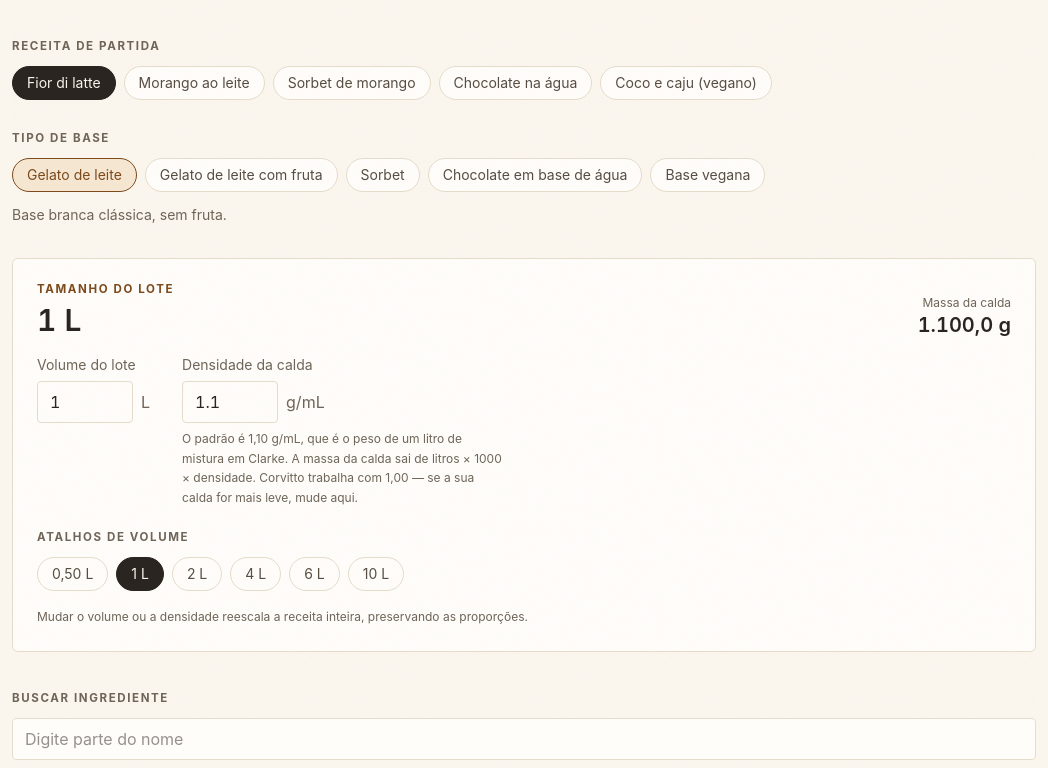
Test: calculadora de gelato › sinaliza as métricas fora da faixa do tipo de base escolhido
Click the button "Sorbet": (383, 175) [346,158,420,192]
(page scrolled)
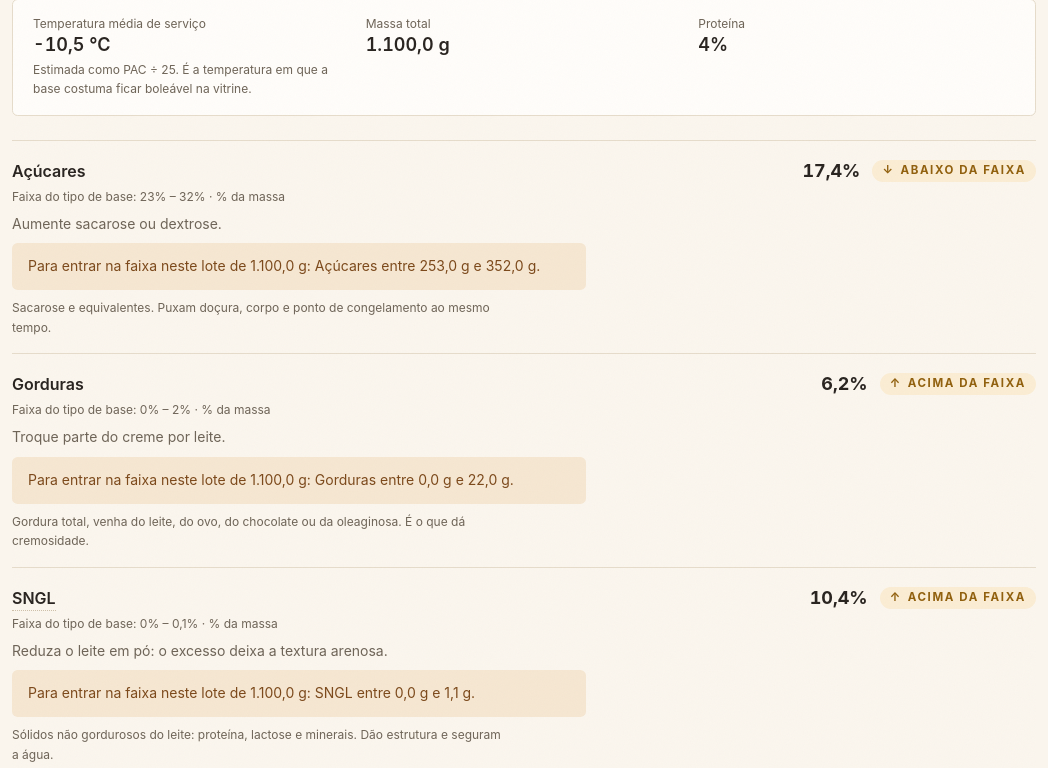
Result: the text "Acima da faixa" next to "6,2%" is shown at [908,376,1026,390]
